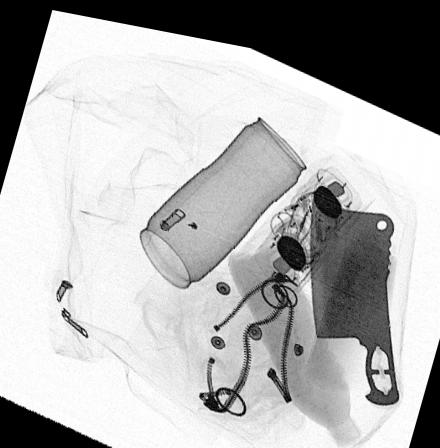Knife: (308, 183, 403, 392)
